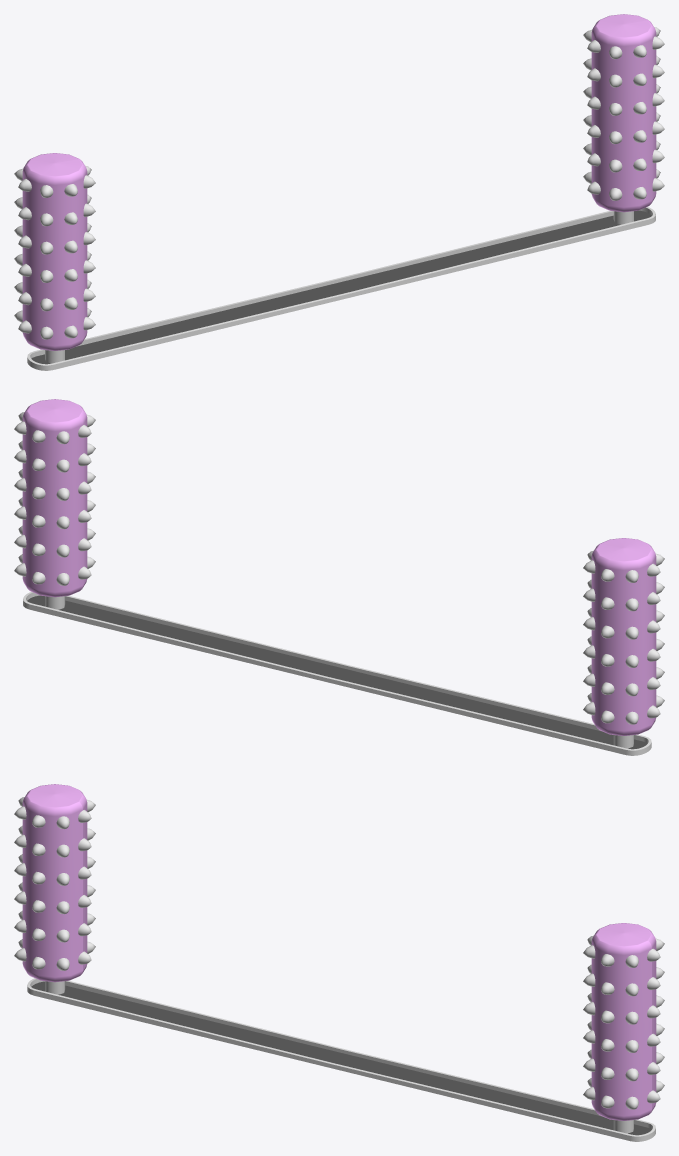
File: Obstacle_44.fbx
The picture shows the model from 3 angles, top to bottom: view 1: azimuth 30°, elevation 25°; view 2: azimuth 150°, elevation 25°; view 3: azimuth 330°, elevation 25°; orthographic projection.
Parts seen in each view (by area): view 1: Quay_2, Quay_1, De; view 2: Quay_2, Quay_1, De; view 3: Quay_1, De, Quay_2.
Part boxes in pixels (x1=…): Quay_2: x1=583, y1=14, x2=664, y2=224; Quay_1: x1=14, y1=153, x2=95, y2=363; De: x1=27, y1=207, x2=655, y2=370; Quay_2: x1=14, y1=399, x2=95, y2=609; Quay_1: x1=583, y1=538, x2=664, y2=748; De: x1=23, y1=592, x2=651, y2=755; Quay_1: x1=14, y1=784, x2=95, y2=994; De: x1=27, y1=978, x2=655, y2=1141; Quay_2: x1=583, y1=923, x2=664, y2=1133.
Size of the model in its own units: 10.24 by 3 by 1.17.
